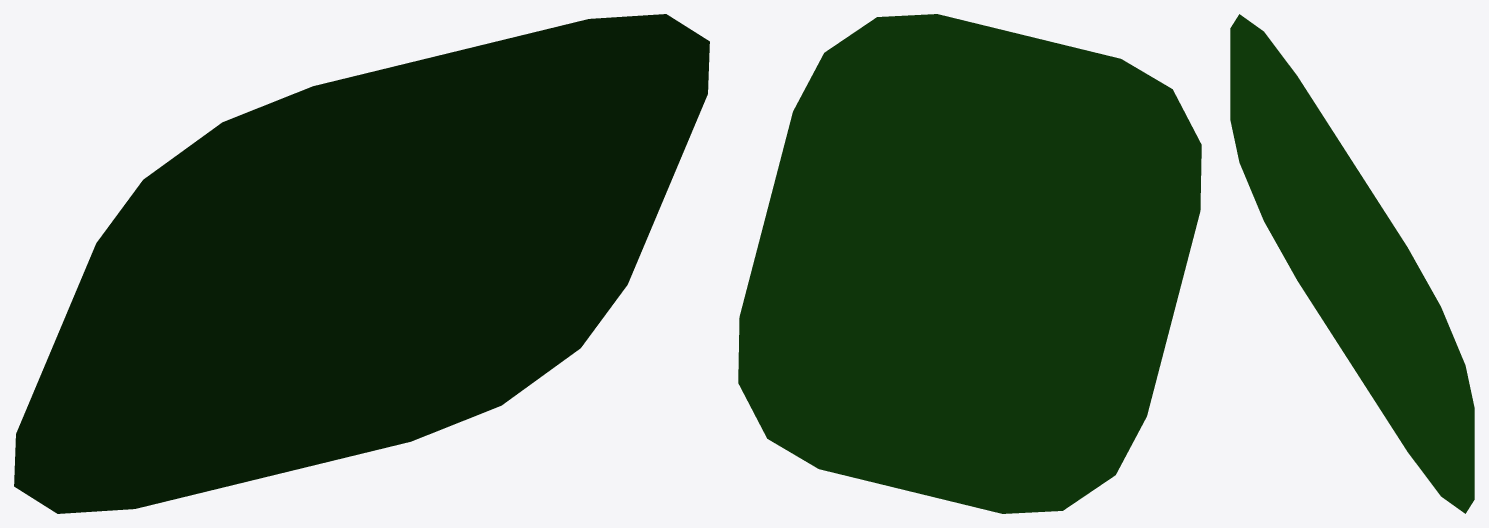
The model's file is Display.fbx.
3 views of the same model, side by side, from view 1: azimuth 30°, elevation 25°; view 2: azimuth 150°, elevation 25°; view 3: azimuth 270°, elevation 25° (orthographic). The views are drawn at different scales.
Parts seen in each view (by area): view 1: Screen; view 2: Screen; view 3: Screen.
Part boxes in pixels (x1=…): Screen: x1=14, y1=14, x2=709, y2=513; Screen: x1=738, y1=14, x2=1201, y2=513; Screen: x1=1230, y1=14, x2=1474, y2=513.
Bounding box in the file's own units: 9.48 × 8.19 × 4.77.
